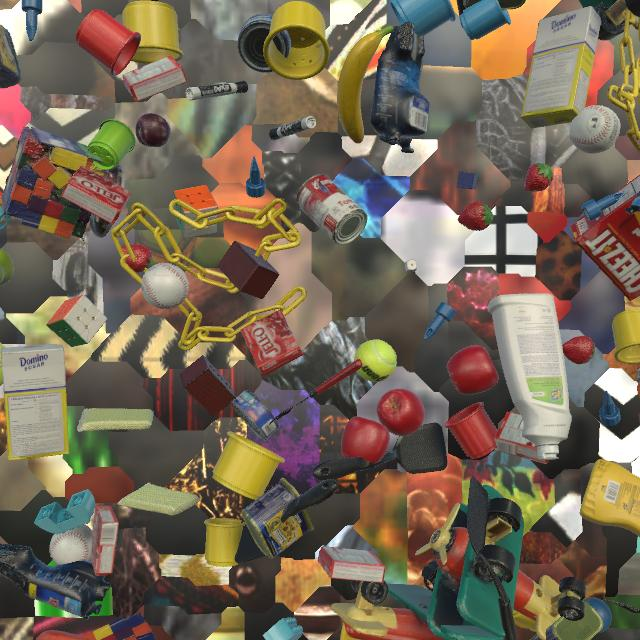ycb_003_cracker_box: (570, 175, 640, 301)
ycb_004_sugar_box: (520, 6, 601, 128), (1, 344, 69, 460)
ycb_005_tomato_soup_can: (296, 174, 367, 245)
ycb_006_mustard_bottle: (580, 459, 640, 537)
ycb_007_tuna_fish_can: (238, 13, 291, 73), (231, 390, 279, 441), (319, 181, 331, 194)
ycb_009_gelatin_box: (241, 309, 304, 377), (61, 166, 131, 224), (122, 56, 187, 102), (494, 412, 549, 464), (318, 546, 386, 583), (91, 505, 119, 576), (0, 575, 1, 577)
ycb_010_potted_meat_can: (242, 478, 314, 559), (530, 601, 603, 640), (0, 24, 22, 89), (463, 0, 526, 10)
ycb_011_banana: (337, 25, 394, 144)
ycb_012_strawberry: (458, 201, 493, 231), (121, 244, 153, 273), (562, 336, 595, 364), (524, 163, 554, 192)
ycb_013_apple: (447, 345, 499, 395), (341, 416, 390, 464), (377, 389, 425, 436)
ycb_016_pear: (0, 248, 14, 286)
ycb_018_plum: (135, 113, 171, 147)
